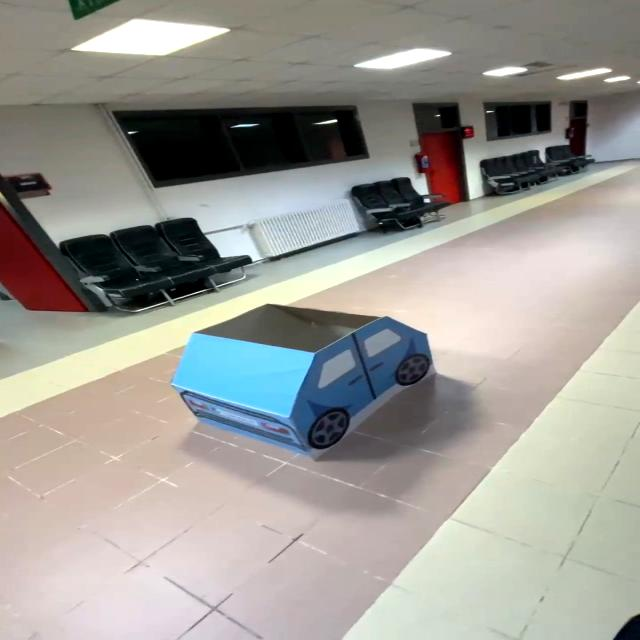blue_car: (163, 299, 450, 458)
